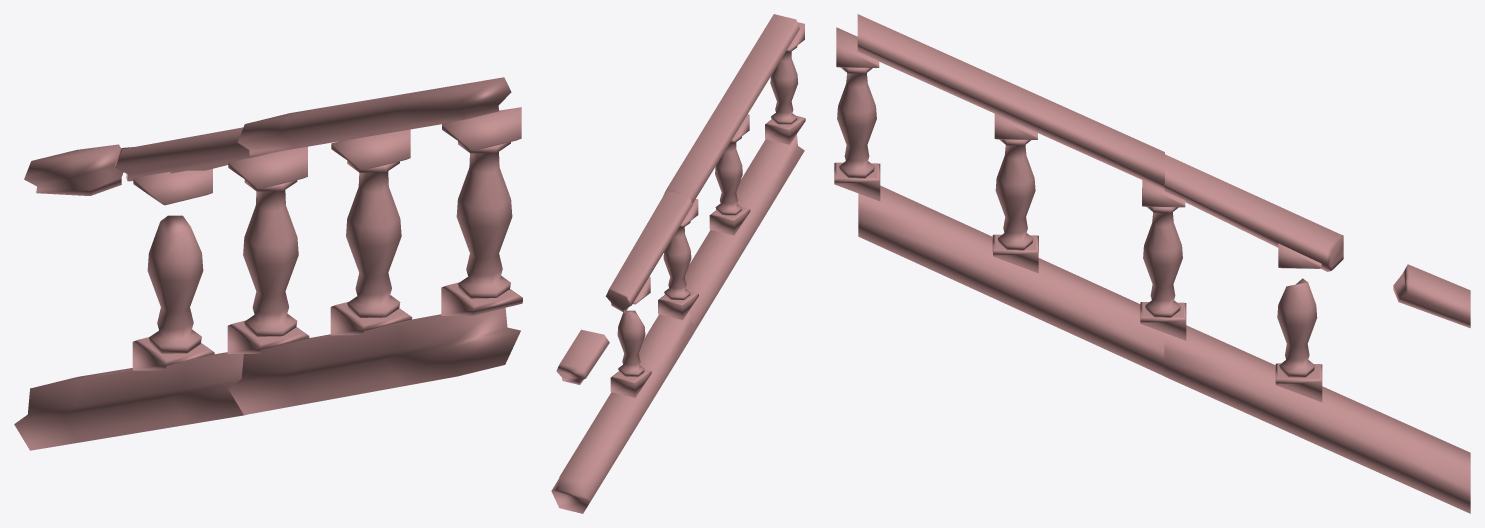
File: Stone_Baluster_D_03_Lod0.fbx
The picture shows the model from 3 angles, left to right: view 1: azimuth 30°, elevation 25°; view 2: azimuth 150°, elevation 25°; view 3: azimuth 270°, elevation 25°; orthographic projection. The views are drawn at different scales.
Parts seen in each view (by area): view 1: Stone_Baluster_D_03_Lod0; view 2: Stone_Baluster_D_03_Lod0; view 3: Stone_Baluster_D_03_Lod0.
Part boxes in pixels (x1=…): Stone_Baluster_D_03_Lod0: x1=14, y1=77, x2=522, y2=450; Stone_Baluster_D_03_Lod0: x1=551, y1=14, x2=805, y2=513; Stone_Baluster_D_03_Lod0: x1=834, y1=14, x2=1470, y2=513.
Bounding box in the file's own units: 32.21 × 262 × 312.
